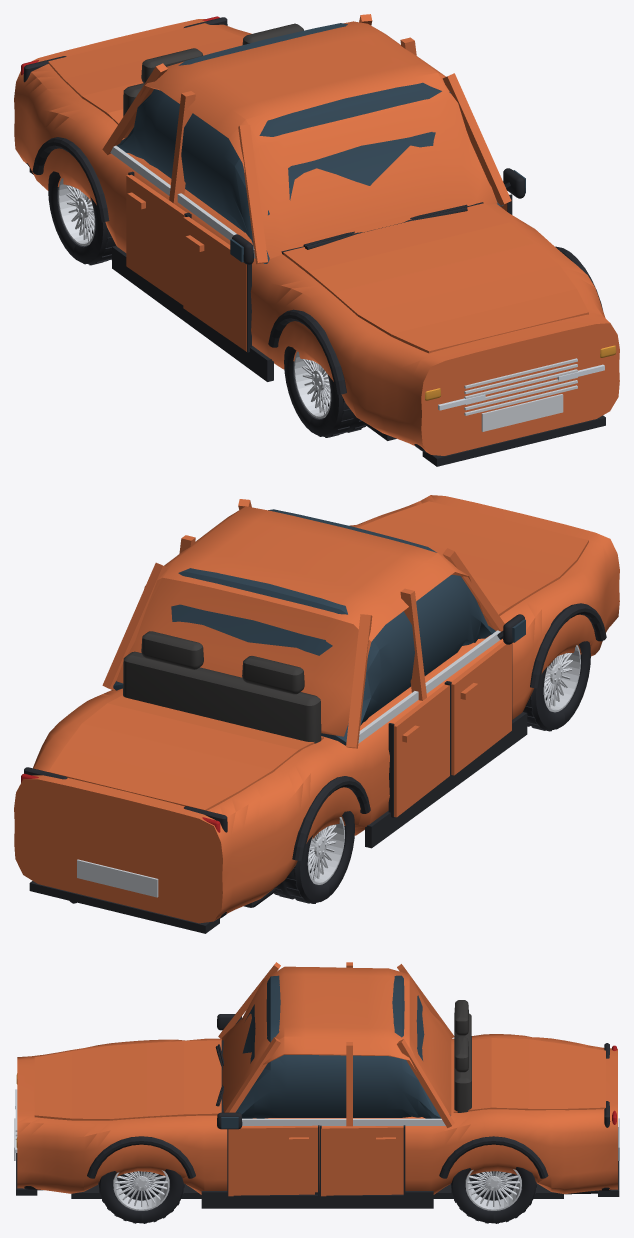
The model's file is ClassicSaloonHD.fbx.
3 views of the same model, one above another, from view 1: azimuth 30°, elevation 25°; view 2: azimuth 150°, elevation 25°; view 3: azimuth 270°, elevation 25° (orthographic). The views are drawn at different scales.
Visible parts, largest first — view 1: body_classic-saloon_0, body_bonnet.001, glass_classic-saloon_2, trim_classic-saloon_1, body_boot.001, body_door-front-left.001, rim_classic-saloon_6, body_door-rear-left.001, trim_wheel-front-left_trim, trim_wheel-rear-left_trim, rim_wheel-rear-left_alloy, rim_wheel-front-left_alloy (+1 smaller); view 2: body_classic-saloon_0, body_boot.001, glass_classic-saloon_2, interior_classic-saloon_3, body_bonnet.001, trim_classic-saloon_1, body_door-front-left.001, body_door-rear-left.001, rim_classic-saloon_6, trim_wheel-rear-left_trim, trim_wheel-front-left_trim, rim_wheel-rear-left_alloy (+1 smaller); view 3: body_classic-saloon_0, body_bonnet.001, glass_classic-saloon_2, trim_classic-saloon_1, body_boot.001, body_door-front-right.001, body_door-rear-right.001, trim_wheel-rear-right_trim, trim_wheel-front-right_trim, interior_classic-saloon_3, rim_classic-saloon_6, rim_wheel-rear-right_alloy (+1 smaller).
Part boxes in pixels (x1,y1,x2,y2): body_classic-saloon_0: (14, 14, 619, 455); body_bonnet.001: (283, 203, 588, 353); glass_classic-saloon_2: (117, 23, 525, 263); trim_classic-saloon_1: (23, 17, 605, 466); body_boot.001: (48, 23, 243, 124); body_door-front-left.001: (183, 216, 246, 351); rim_classic-saloon_6: (110, 145, 577, 431); body_door-rear-left.001: (126, 174, 186, 304); trim_wheel-front-left_trim: (284, 346, 366, 437); trim_wheel-rear-left_trim: (48, 171, 115, 265); rim_wheel-rear-left_alloy: (58, 178, 95, 246); rim_wheel-front-left_alloy: (294, 351, 331, 418); body_classic-saloon_0: (14, 495, 619, 923); body_boot.001: (48, 695, 323, 810); glass_classic-saloon_2: (113, 509, 525, 745); interior_classic-saloon_3: (123, 631, 321, 743); body_bonnet.001: (358, 501, 588, 615); trim_classic-saloon_1: (24, 603, 606, 933); body_door-front-left.001: (451, 641, 511, 775); body_door-rear-left.001: (394, 684, 449, 817); rim_classic-saloon_6: (77, 630, 500, 897); trim_wheel-rear-left_trim: (273, 811, 354, 903); trim_wheel-front-left_trim: (523, 641, 590, 731); rim_wheel-rear-left_alloy: (307, 817, 344, 884); body_classic-saloon_0: (17, 962, 617, 1194); body_bonnet.001: (34, 1040, 221, 1120); glass_classic-saloon_2: (221, 975, 450, 1128); trim_classic-saloon_1: (16, 1014, 619, 1208); body_boot.001: (453, 1038, 605, 1112); body_door-front-right.001: (228, 1125, 317, 1196); body_door-rear-right.001: (321, 1126, 403, 1196); trim_wheel-rear-right_trim: (450, 1167, 536, 1223); trim_wheel-front-right_trim: (98, 1169, 184, 1223); interior_classic-saloon_3: (454, 1000, 471, 1112); rim_classic-saloon_6: (14, 1089, 619, 1160); rim_wheel-rear-right_alloy: (465, 1169, 521, 1210).
Size of the model in its own units: 183 by 148 by 453.
